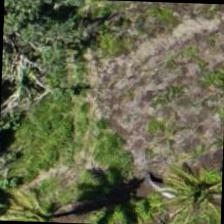Kelapa_Sawit: (147, 141, 223, 223)
